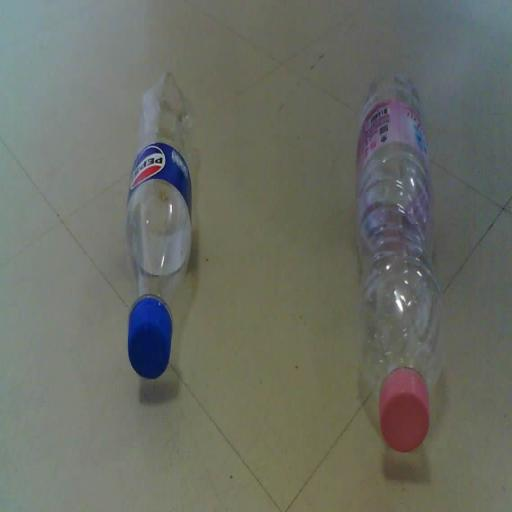bottle: (356, 74, 443, 456), (124, 81, 194, 381)
